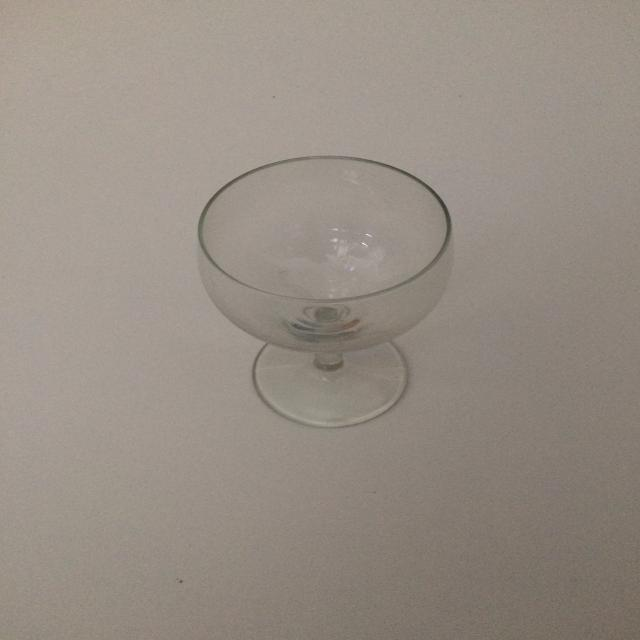glass: (196, 154, 455, 428)
